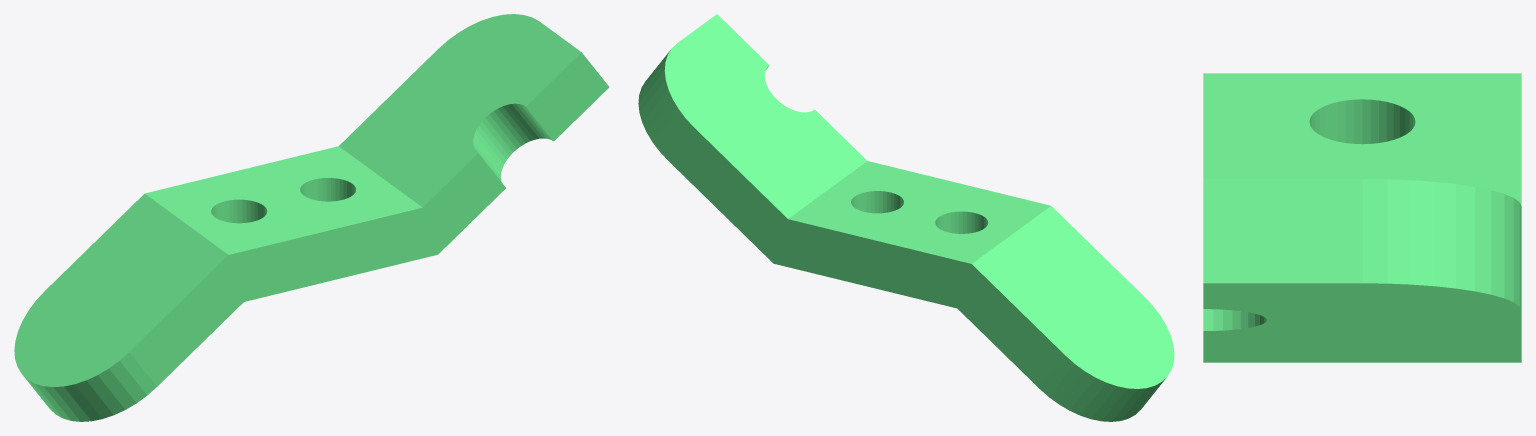
Rendered from SOLIDO-VISTA-AUXILIAR1.dae.
3 renders of one model, left to right at view 1: azimuth 30°, elevation 25°; view 2: azimuth 150°, elevation 25°; view 3: azimuth 270°, elevation 25°, orthographic. The views are drawn at different scales.
Parts seen in each view (by area): view 1: Group_4 (×3); view 2: Group_4 (×3); view 3: Group_4 (×2).
Part boxes in pixels (bbox=[...]): Group_4 (×3): bbox=[14, 14, 609, 421]; Group_4 (×3): bbox=[638, 14, 1174, 421]; Group_4 (×2): bbox=[1203, 73, 1521, 362].
Size of the model in its own units: 43.81 by 11.81 by 21.29.
